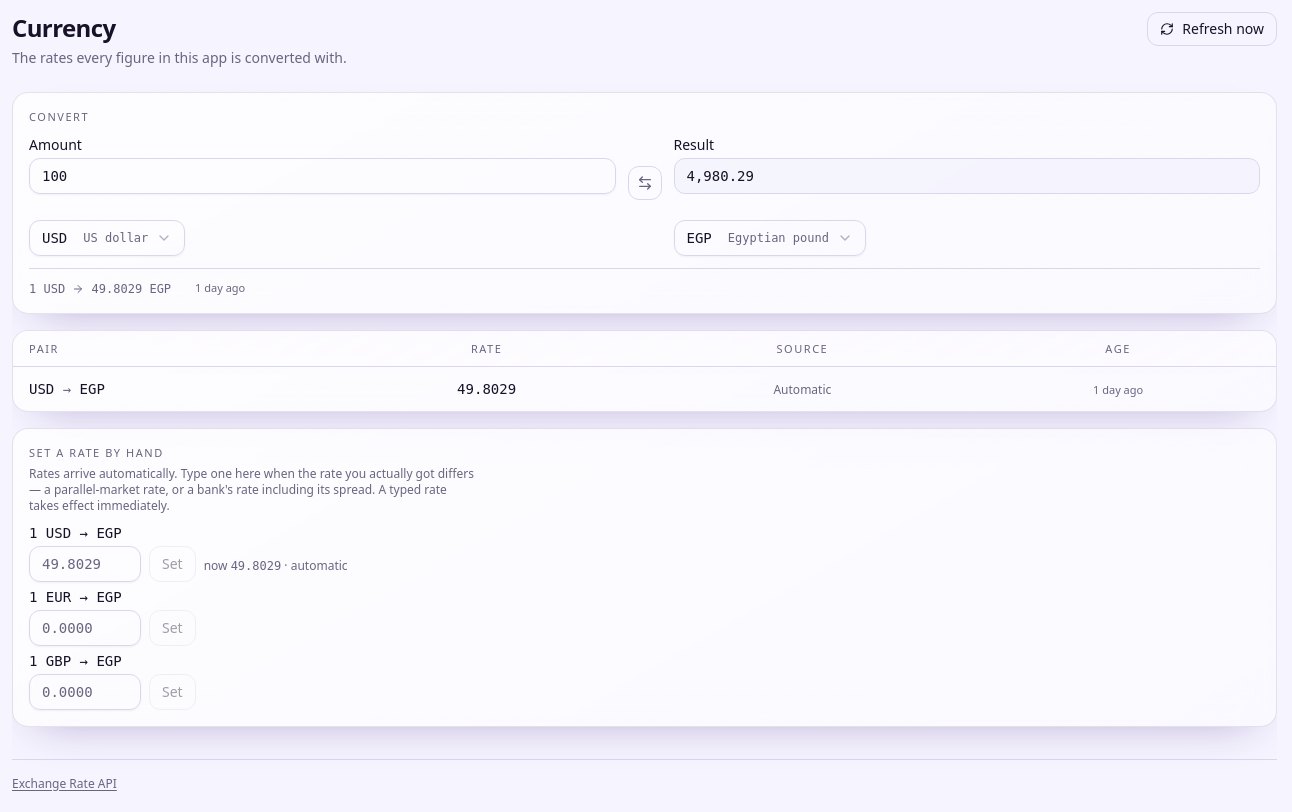
Test: the converter › asks for nothing at all when the amount is empty
This screenshot has width=1292, height=812.
Clear the field labelled "Amount": (322, 176) [29,158,616,194]
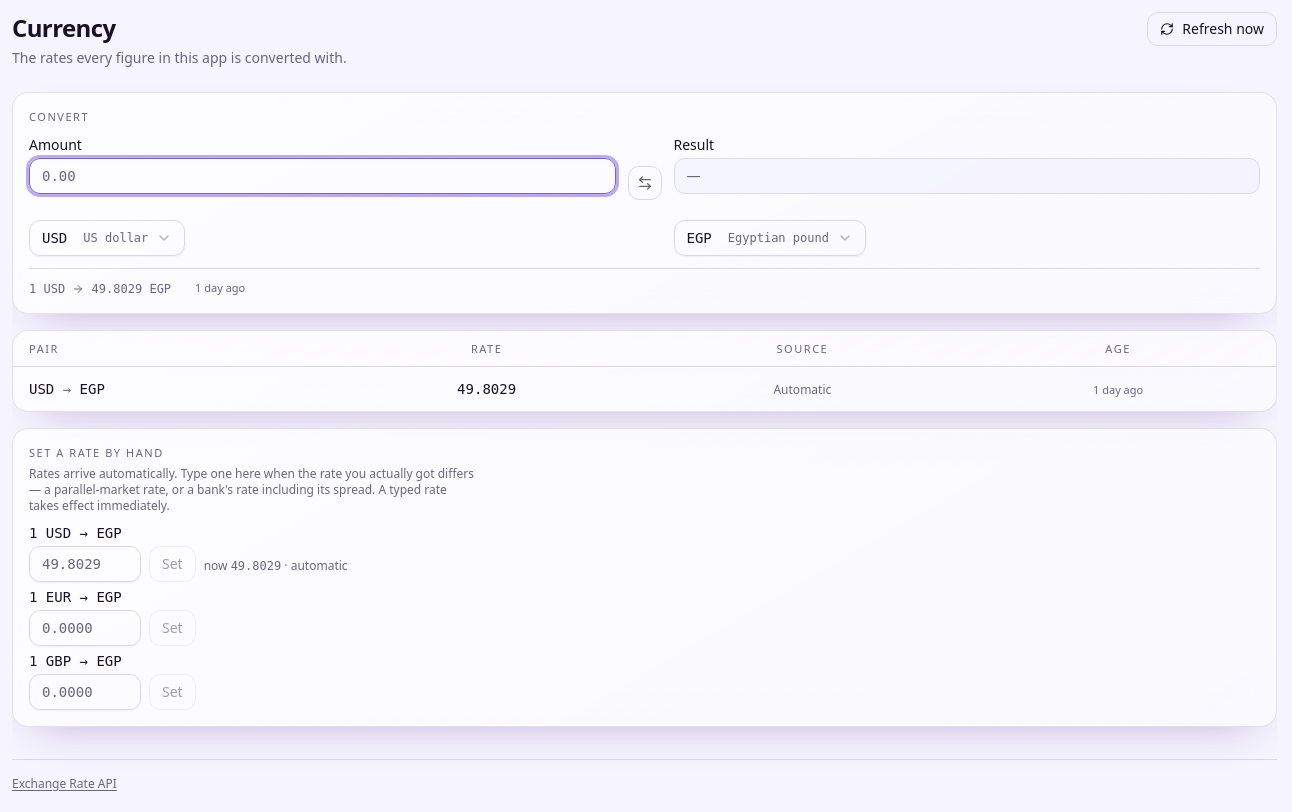
Check: the text "—" is shown, box [686,166,700,186]
